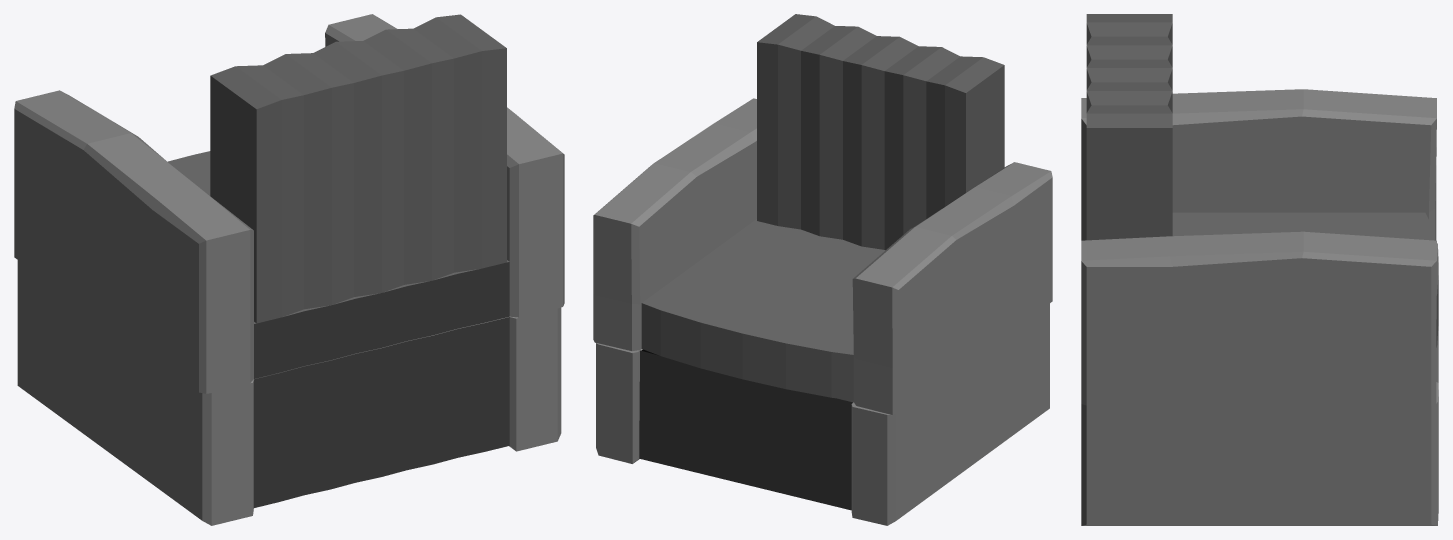
The model's file is ArmchairModel.fbx.
3 views of the same model, side by side, from view 1: azimuth 30°, elevation 25°; view 2: azimuth 150°, elevation 25°; view 3: azimuth 270°, elevation 25° (orthographic). The views are drawn at different scales.
Visible parts, largest first — view 1: ArmchairModel; view 2: ArmchairModel; view 3: ArmchairModel.
Boxes of the visible parts, bbox=[...] form: ArmchairModel: bbox=[14, 14, 564, 525]; ArmchairModel: bbox=[593, 14, 1052, 525]; ArmchairModel: bbox=[1081, 14, 1438, 525].
Bounding box in the file's own units: 160 × 170 × 145.
